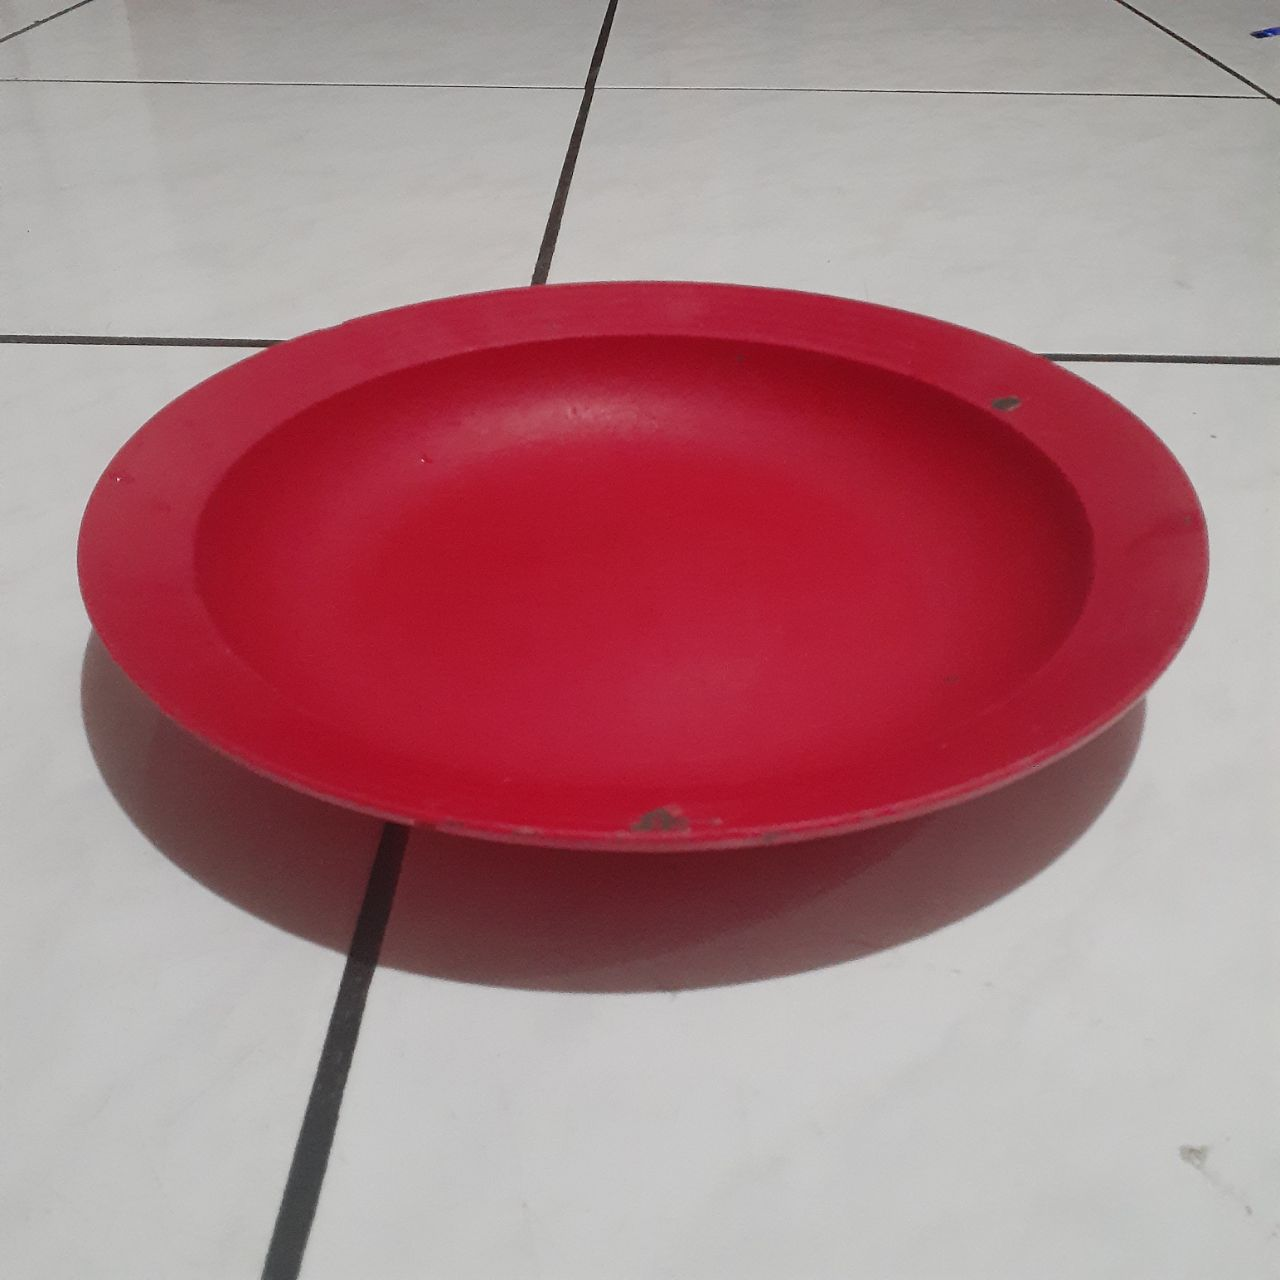piring: (73, 264, 1210, 855)
